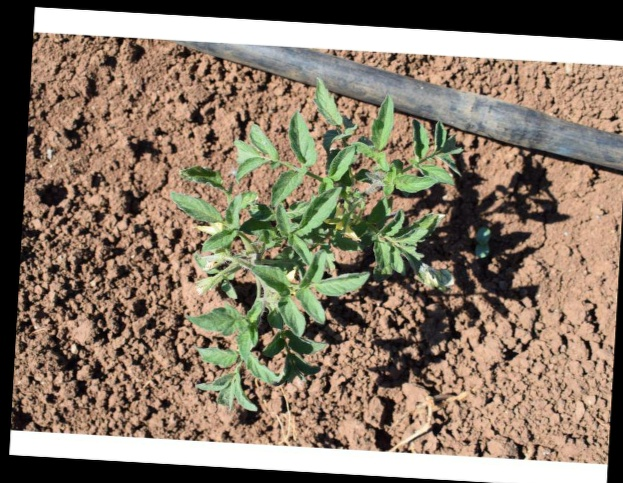tomato: (165, 76, 458, 411)
